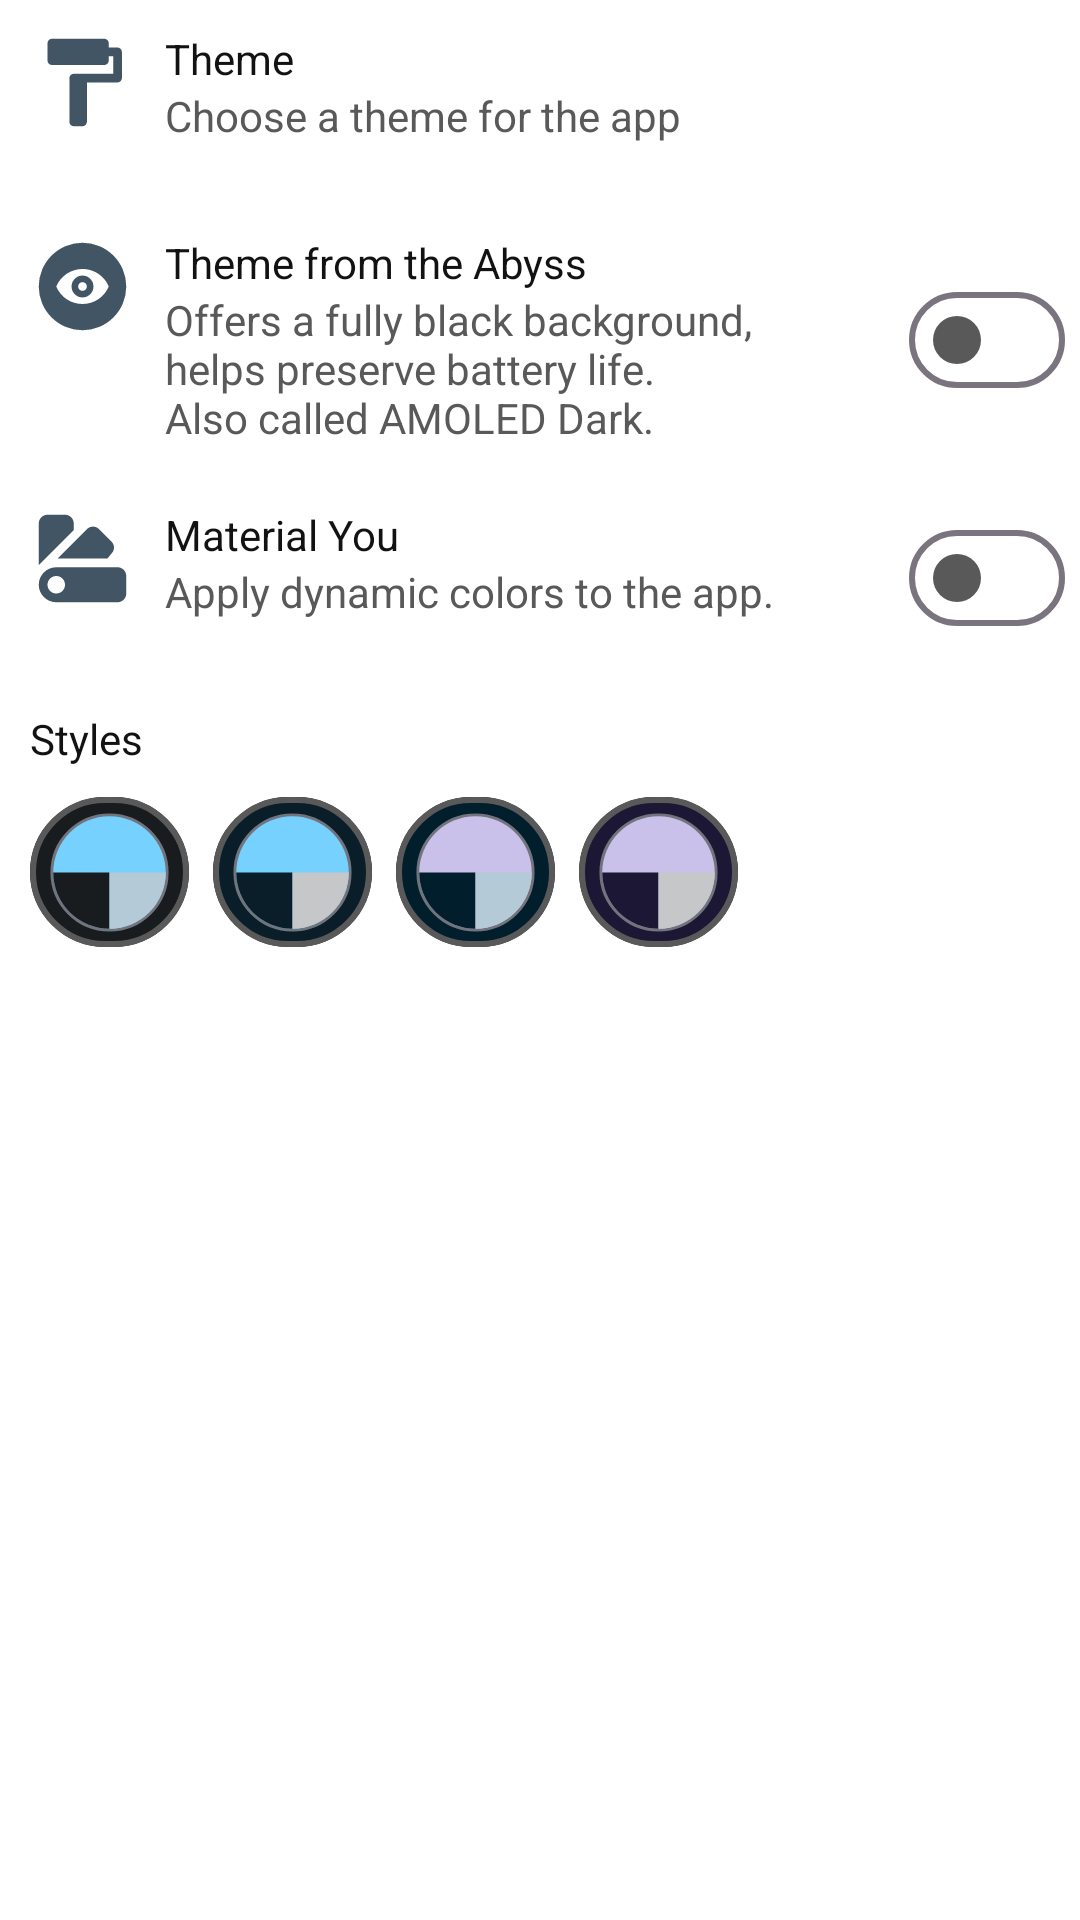

Where to tap for icons on this 1080px x 1920px app screen, as point (x, y):
eye circle: point (82, 286)
format paint: point (84, 82)
palette swatch variant: point (82, 558)
